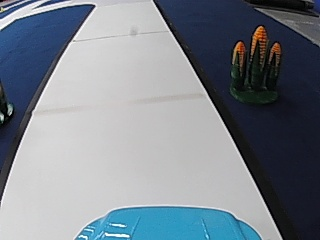corn: (228, 20, 287, 104)
